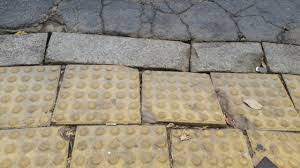block(point type): (2, 67, 294, 167)
